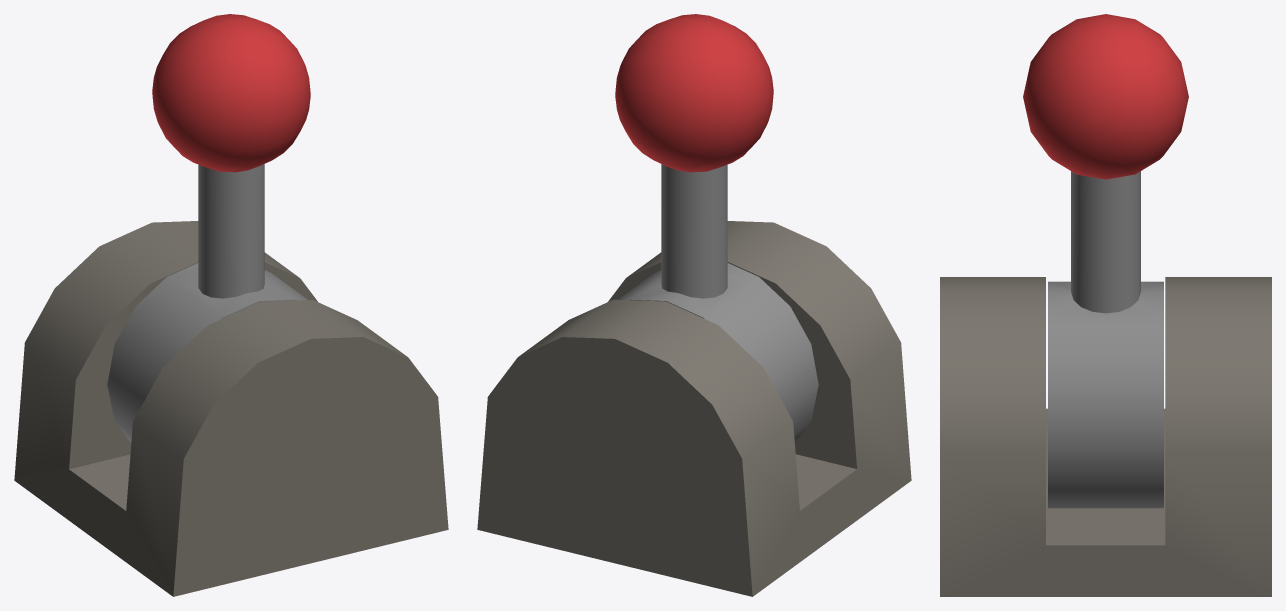
File: lever.fbx
3 views of the same model, side by side, from view 1: azimuth 30°, elevation 25°; view 2: azimuth 150°, elevation 25°; view 3: azimuth 270°, elevation 25° (orthographic). The views are drawn at different scales.
Parts seen in each view (by area): view 1: Cylinder.005, Cylinder.006; view 2: Cylinder.005, Cylinder.006; view 3: Cylinder.005, Cylinder.006.
Part boxes in pixels (left/top/right/bottom): Cylinder.005: left=14, top=221, right=448, bottom=596; Cylinder.006: left=107, top=14, right=310, bottom=442; Cylinder.005: left=477, top=221, right=911, bottom=596; Cylinder.006: left=615, top=14, right=818, bottom=442; Cylinder.005: left=940, top=277, right=1271, bottom=596; Cylinder.006: left=1023, top=14, right=1188, bottom=508.
Size of the model in its own units: 0.204 by 0.3426 by 0.204.
